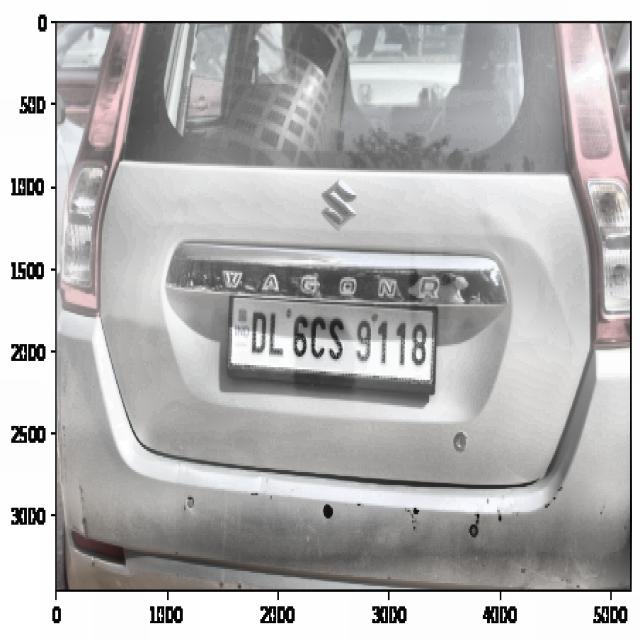license_plate: (244, 298, 432, 381)
